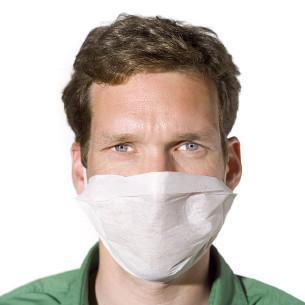OK: (85, 97, 223, 284)
